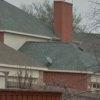Chimney: (50, 1, 76, 43)
